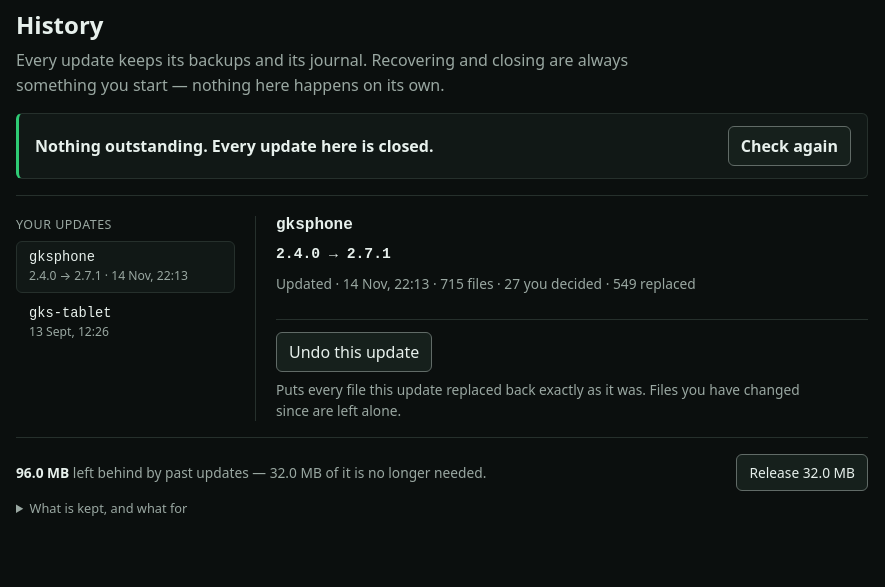
the history screen › reports what putting it back actually did, file by file
The width and height of the screenshot is (885, 587).
Click the button "Undo this update". click: (354,352)
box: [276,332,432,372]
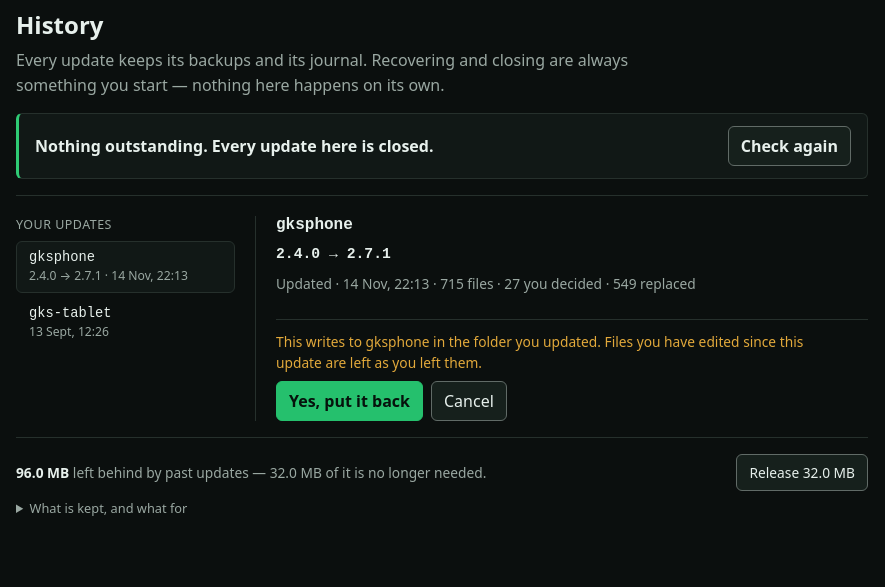
Click the button "Yes, put it back". click: (350,401)
box: [276,381,423,421]
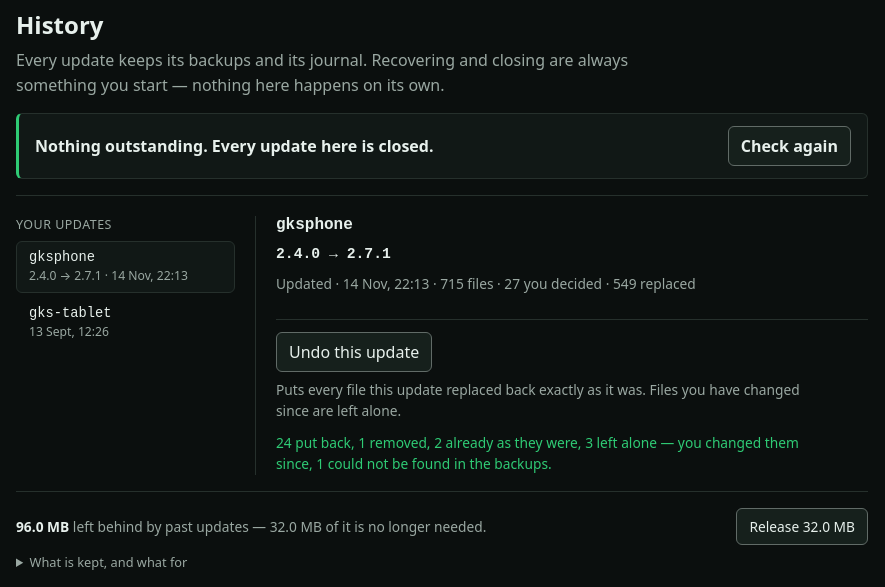
Result: the text "24 put back" is shown at [276,433,799,473]
Result: the text "1 removed" is shown at [276,433,799,473]
Result: the text "3 left alone" is shown at [276,433,799,473]
